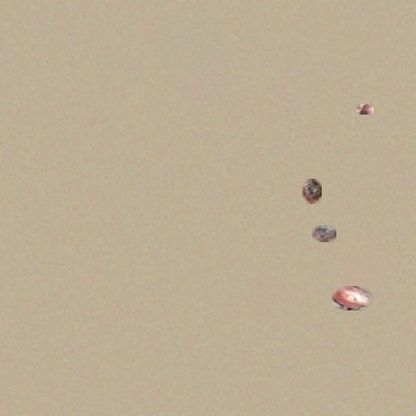damaged: (332, 286, 373, 310)
rotten: (302, 179, 322, 204), (312, 225, 336, 242)
sprouted: (356, 104, 374, 115)
